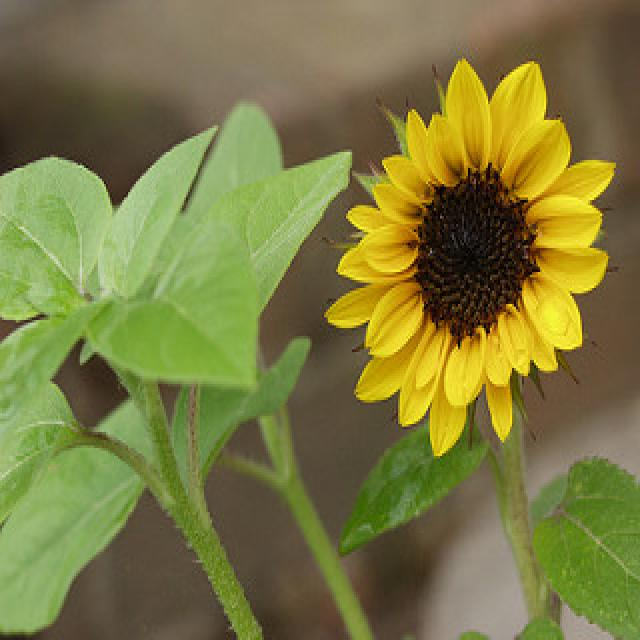sunflower: (313, 51, 621, 464)
